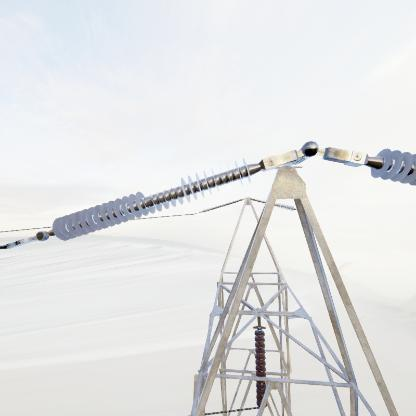insulator: (49, 152, 261, 245), (254, 326, 268, 414)
